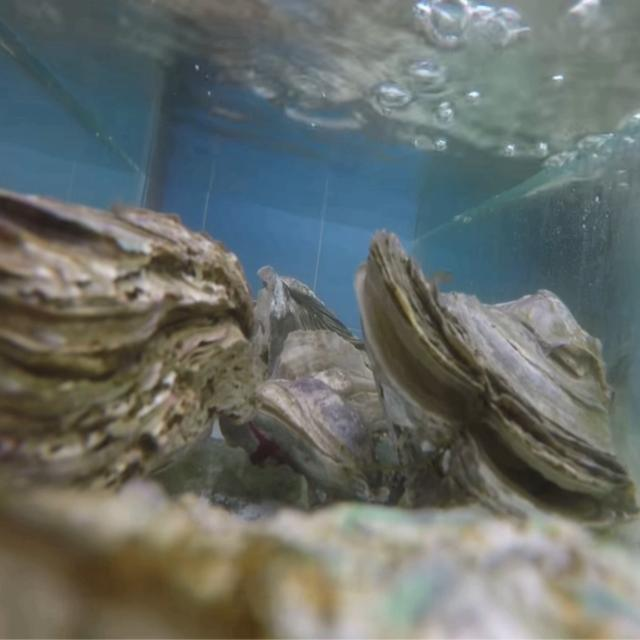Oyster-Closed: (0, 188, 255, 527), (250, 330, 406, 504)
Oyster-Indeterminate: (0, 476, 640, 640)
Oyster-Open: (354, 229, 640, 540)
